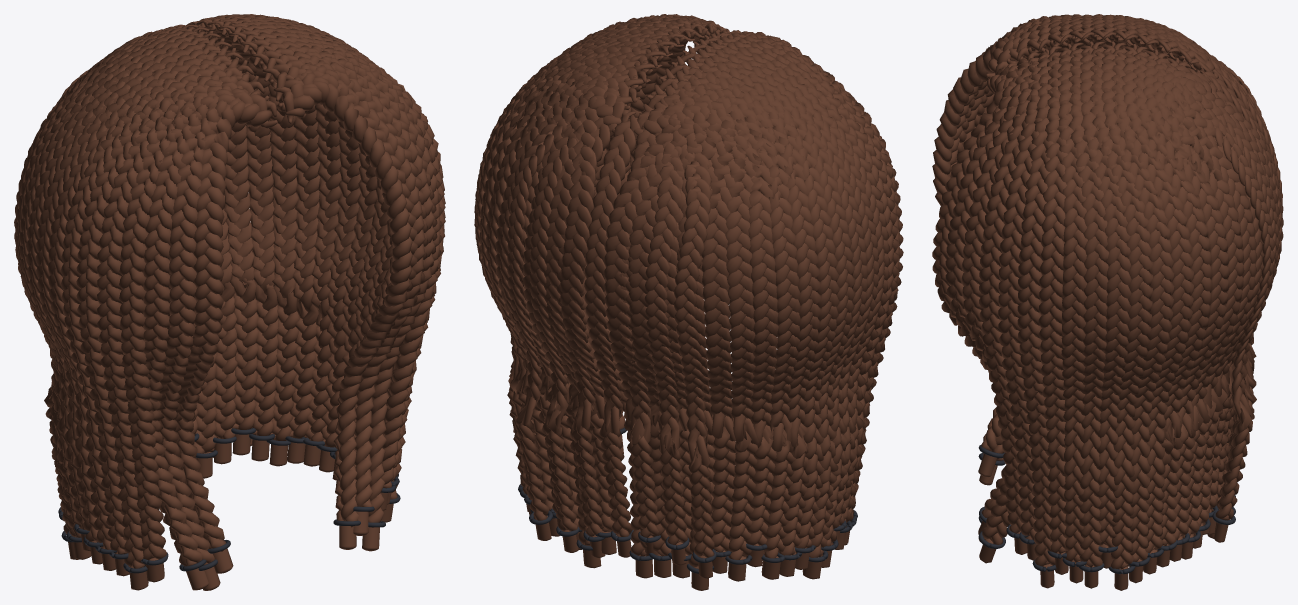
File: Feminine-box-braids-open-pashmina250-hair.glb
3 renders of one model, left to right at view 1: azimuth 30°, elevation 25°; view 2: azimuth 150°, elevation 25°; view 3: azimuth 270°, elevation 25°, orthographic. The views are drawn at different scales.
Parts seen in each view (by area): view 1: 226 hair / Hair / chestnut226.001, 226 hair / Hair / ties226.001; view 2: 226 hair / Hair / chestnut226.001, 226 hair / Hair / ties226.001; view 3: 226 hair / Hair / chestnut226.001, 226 hair / Hair / ties226.001.
Part boxes in pixels (<box>): 226 hair / Hair / chestnut226.001: <box>14,14,445,590</box>; 226 hair / Hair / ties226.001: <box>58,428,400,573</box>; 226 hair / Hair / chestnut226.001: <box>474,14,903,590</box>; 226 hair / Hair / ties226.001: <box>518,428,857,573</box>; 226 hair / Hair / chestnut226.001: <box>932,14,1283,590</box>; 226 hair / Hair / ties226.001: <box>978,445,1235,574</box>.
Bounding box in the file's own units: 1.03 × 1.3 × 0.8491.
